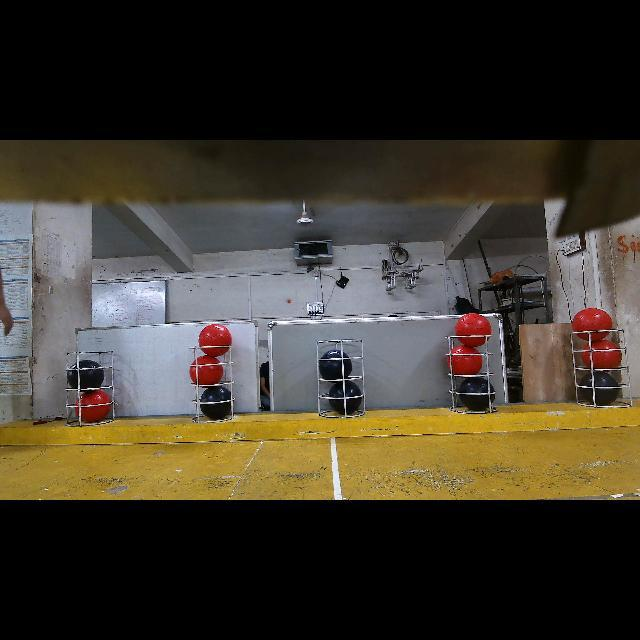P: (579, 371, 620, 406), (459, 376, 495, 411), (329, 380, 362, 415), (66, 360, 105, 389), (200, 386, 231, 420), (319, 349, 352, 380)
R: (572, 308, 612, 342), (455, 312, 491, 348), (581, 340, 622, 370), (75, 390, 111, 422), (199, 324, 232, 356), (448, 345, 482, 375), (190, 355, 224, 385)
S: (304, 338, 378, 414), (436, 337, 512, 411), (190, 342, 244, 424), (65, 346, 119, 426), (564, 322, 612, 392)
